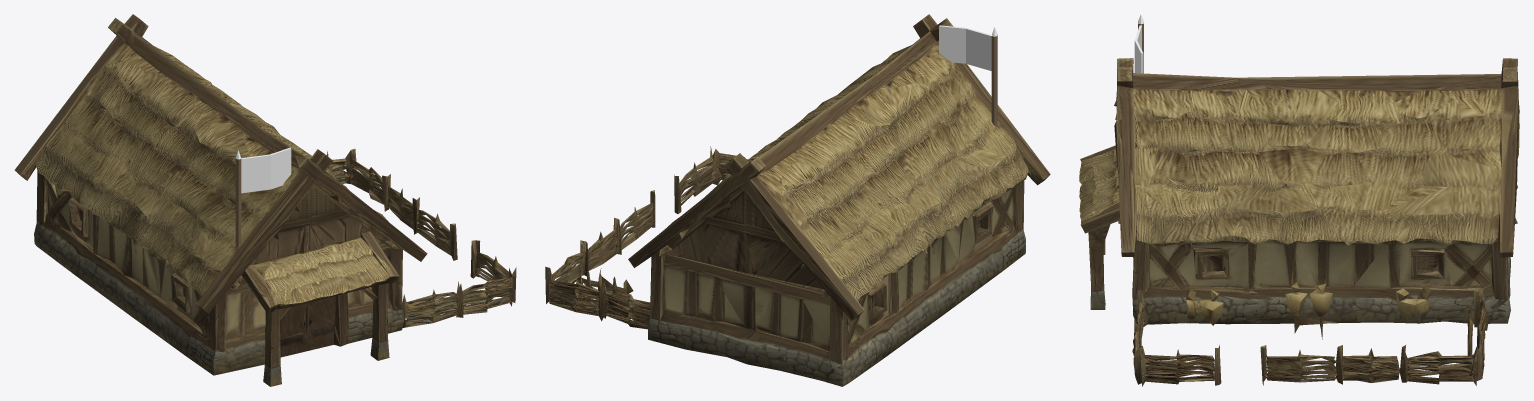
3 views of the same model, side by side, from view 1: azimuth 30°, elevation 25°; view 2: azimuth 150°, elevation 25°; view 3: azimuth 270°, elevation 25° (orthographic). The views are drawn at different scales.
Parts seen in each view (by area): view 1: barracks, Team_banner; view 2: barracks, Team_banner; view 3: barracks, Team_banner.
Part boxes in pixels (left/top/right/bottom): barracks: left=14, top=14, right=516, bottom=386; Team_banner: left=235, top=147, right=291, bottom=247; barracks: left=545, top=14, right=1050, bottom=386; Team_banner: left=939, top=25, right=997, bottom=126; barracks: left=1079, top=58, right=1519, bottom=386; Team_banner: left=1134, top=14, right=1143, bottom=73.
Size of the model in its own units: 1.68 by 1.1 by 1.89.
Materials: 3 (1 with a texture image).
